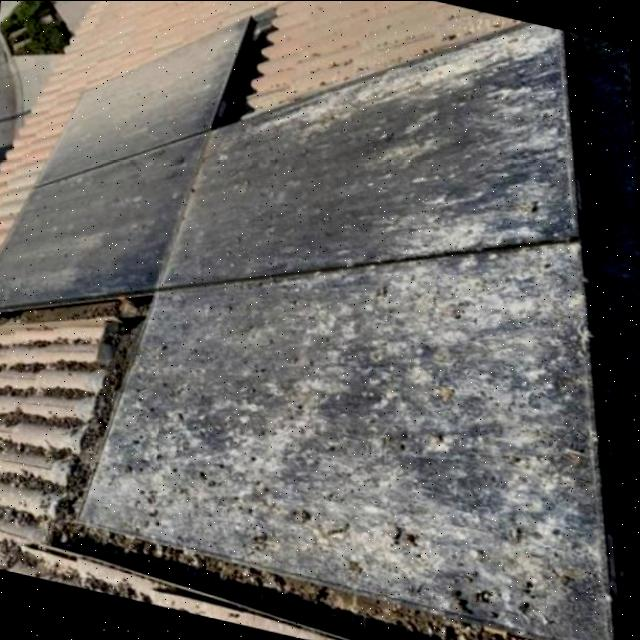Surface Contaminant: (0, 19, 256, 314)
